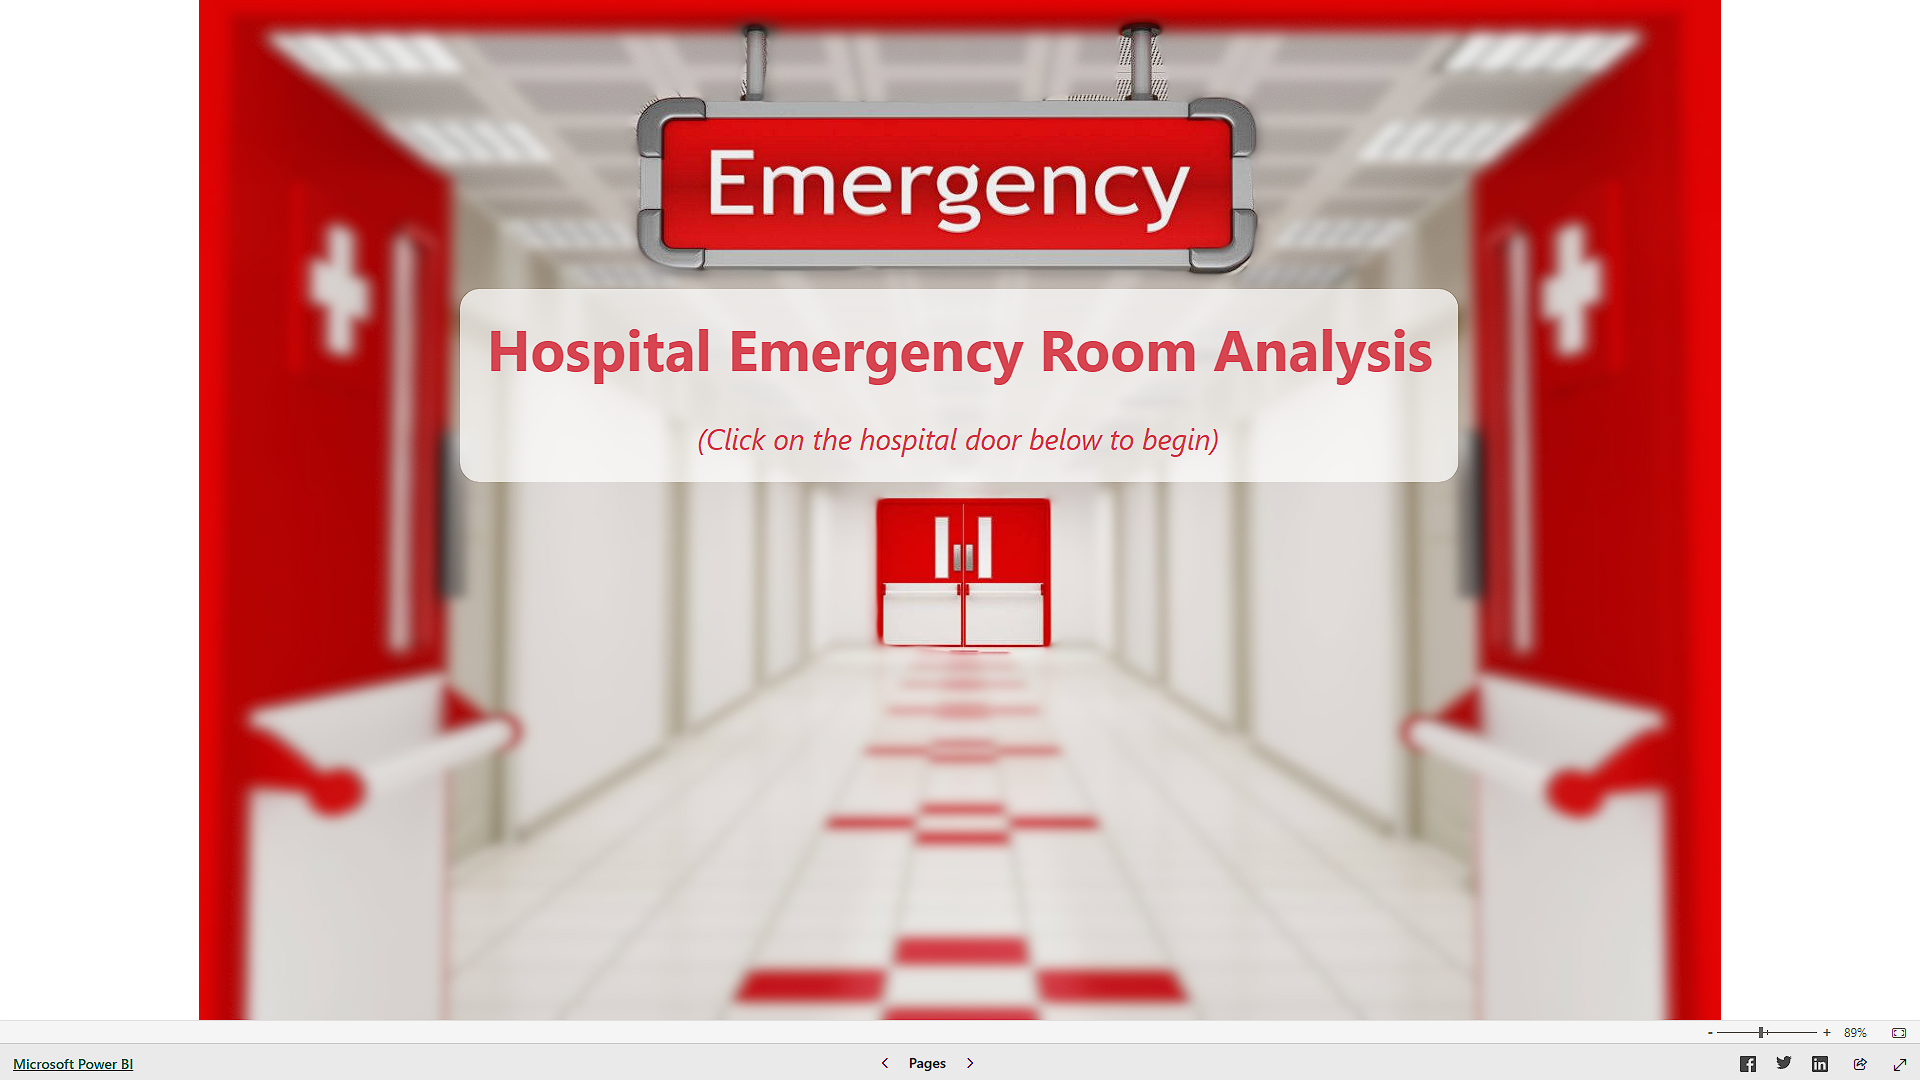

What the dashboard file says about the page in this screenshot:
{"tool":"powerbi","page":{"name":"Introduction","canvas":[1700,1140],"ordinal":1},"visuals":[{"type":"shape","box":[0,0,292.1,1139.8],"z":0},{"type":"textbox","title":"Hospital Emergency Room Analysis","box":[290.8,14.7,938.4,91],"z":0,"group":"g1"},{"type":"shape","box":[292,0,1408,135],"z":1000},{"type":"group","id":"g1","title":"Group 1","box":[290.8,14.7,938.4,91],"z":2000},{"type":"image","box":[0,38.6,291.4,214.3],"z":3000},{"type":"pageNavigator","box":[292.2,87.7,709.6,47.3],"z":4000},{"type":"actionButton","box":[32.5,316.7,257.4,65.4],"z":4000,"group":"g2"},{"type":"shape","box":[291.4,134.3,1407.1,1005.7],"z":5000},{"type":"actionButton","box":[65.9,401.6,224,55.7],"z":5000,"group":"g2"},{"type":"textbox","box":[288,135.2,1408.9,1004.6],"z":6000},{"type":"actionButton","box":[65.9,485.2,224,55.7],"z":6000,"group":"g2"},{"type":"group","id":"g2","title":"Group 2","box":[32.5,300,258.3,269.1],"z":7000},{"type":"shape","box":[285.7,300,4.2,268.5],"z":7000,"group":"g2"}]}

Visuals, with their boxes on the page's 1700x1140 design canvas (x1, y1, x2, y2). These are canvas units, not pixel positions in the 1920x1080 screenshot, which may show the page scaled, cropped or inside an application window:
shape: left=0, top=0, right=292, bottom=1140
"Hospital Emergency Room Analysis" textbox: left=291, top=15, right=1229, bottom=106
shape: left=292, top=0, right=1700, bottom=135
"Group 1" group: left=291, top=15, right=1229, bottom=106
image: left=0, top=39, right=291, bottom=253
pageNavigator: left=292, top=88, right=1002, bottom=135
actionButton: left=32, top=317, right=290, bottom=382
shape: left=291, top=134, right=1698, bottom=1140
actionButton: left=66, top=402, right=290, bottom=457
textbox: left=288, top=135, right=1697, bottom=1140
actionButton: left=66, top=485, right=290, bottom=541
"Group 2" group: left=32, top=300, right=291, bottom=569
shape: left=286, top=300, right=290, bottom=568
